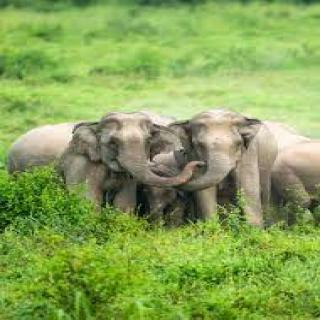Elephant: (5, 111, 187, 232), (160, 103, 285, 230)
